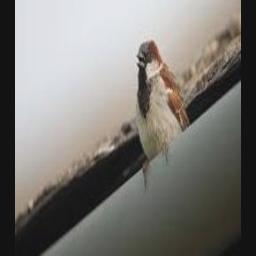Sparrow: (135, 41, 191, 182)
